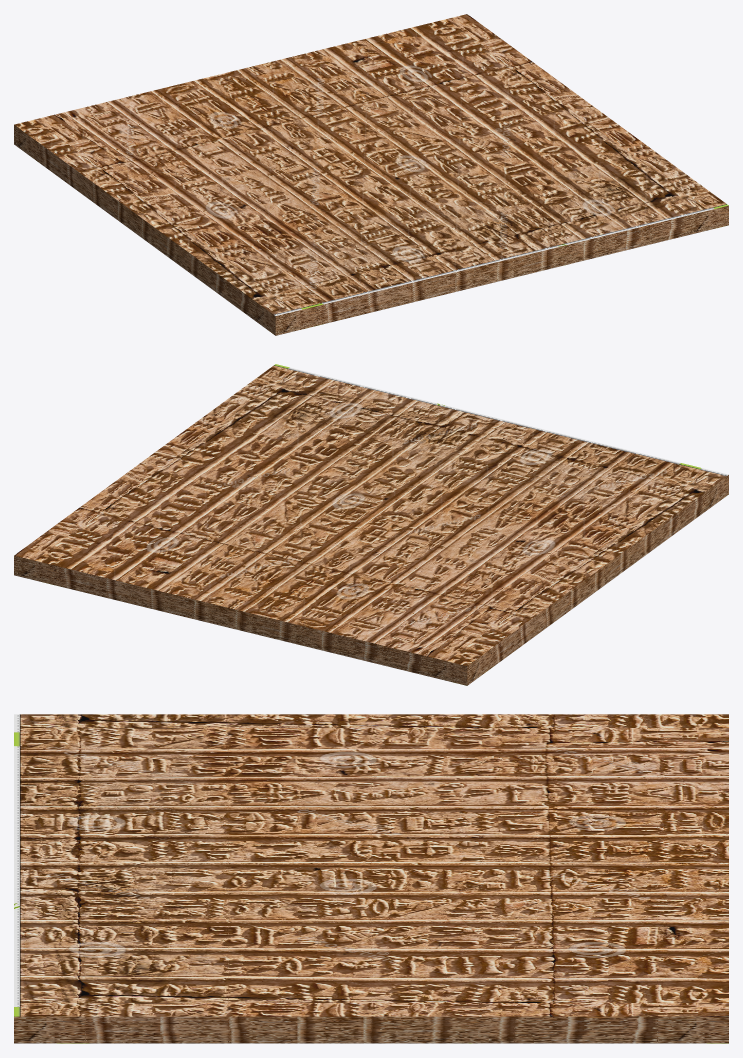
Rendered from roof.FBX.
3 renders of one model, top to bottom at view 1: azimuth 30°, elevation 25°; view 2: azimuth 150°, elevation 25°; view 3: azimuth 270°, elevation 25°, orthographic. The views are drawn at different scales.
Visible parts, largest first — view 1: Box001; view 2: Box001; view 3: Box001.
Part boxes in pixels (bbox=[...]): Box001: bbox=[14, 14, 728, 335]; Box001: bbox=[14, 364, 728, 685]; Box001: bbox=[14, 714, 728, 1043].
Bounding box in the file's own units: 1200 × 50 × 1200.
